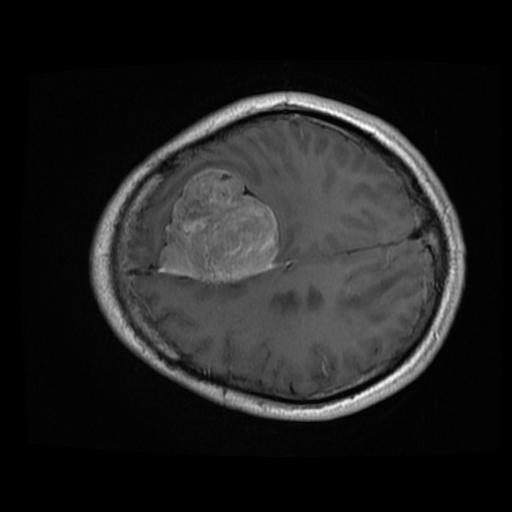meningioma: (157, 165, 278, 285)
